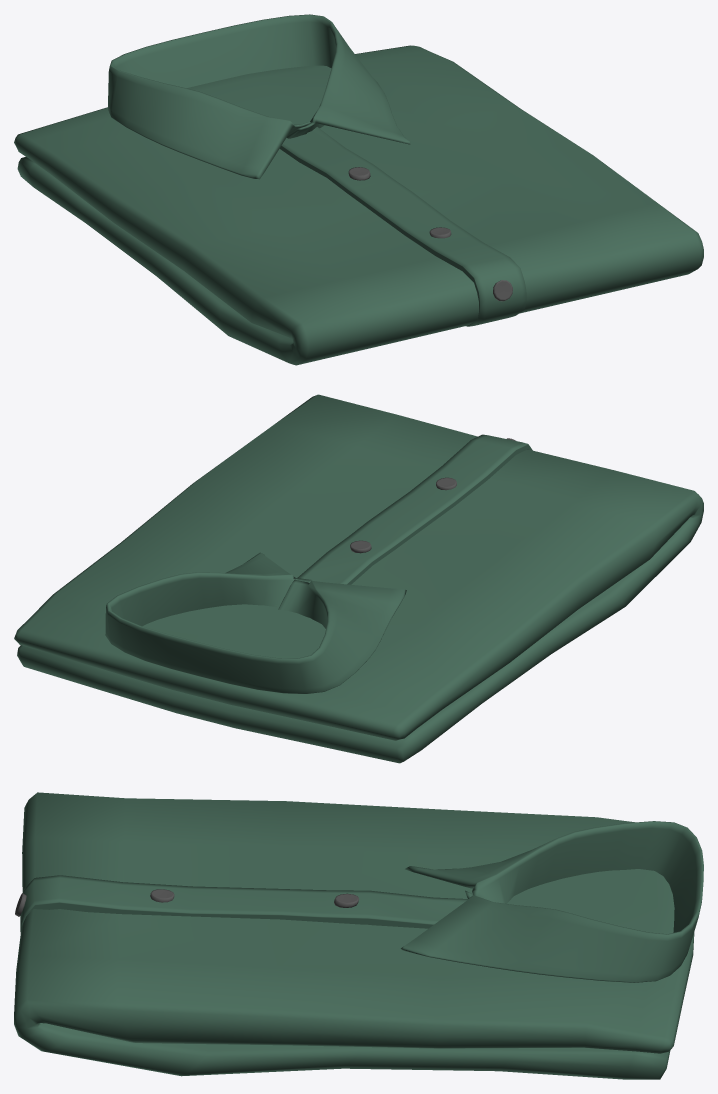
Rendered from Folded_Shirt06.fbx.
The picture shows the model from 3 angles, top to bottom: view 1: azimuth 30°, elevation 25°; view 2: azimuth 150°, elevation 25°; view 3: azimuth 270°, elevation 25°; orthographic projection. The views are drawn at different scales.
Visible parts, largest first — view 1: Folded_Shirt06; view 2: Folded_Shirt06; view 3: Folded_Shirt06.
Part boxes in pixels (x1=…): Folded_Shirt06: x1=14, y1=14, x2=703, y2=365; Folded_Shirt06: x1=14, y1=394, x2=703, y2=763; Folded_Shirt06: x1=14, y1=792, x2=703, y2=1079.
Size of the model in its own units: 25.09 by 5.51 by 33.3.
